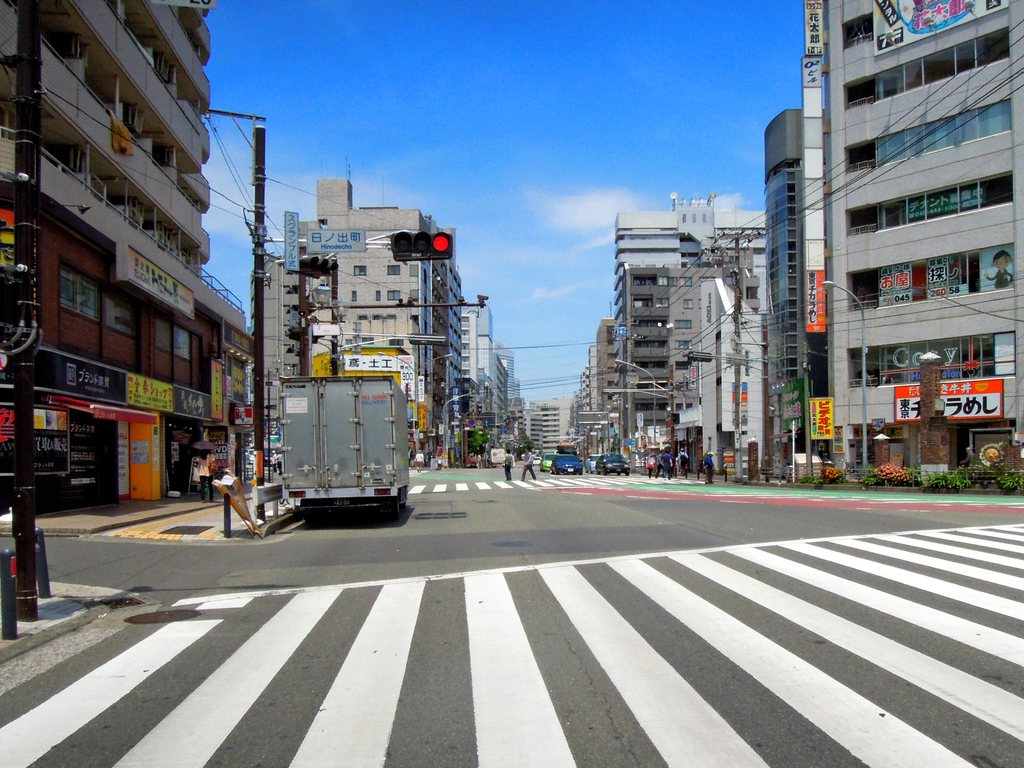red_light: (393, 231, 453, 259)
